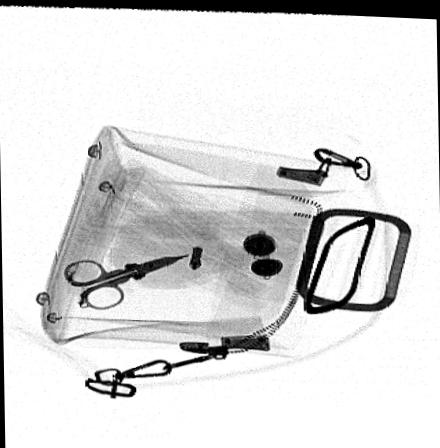Scissors: (60, 252, 187, 310)
